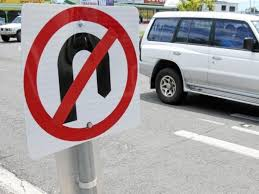No_u_turn: (25, 6, 138, 141)
